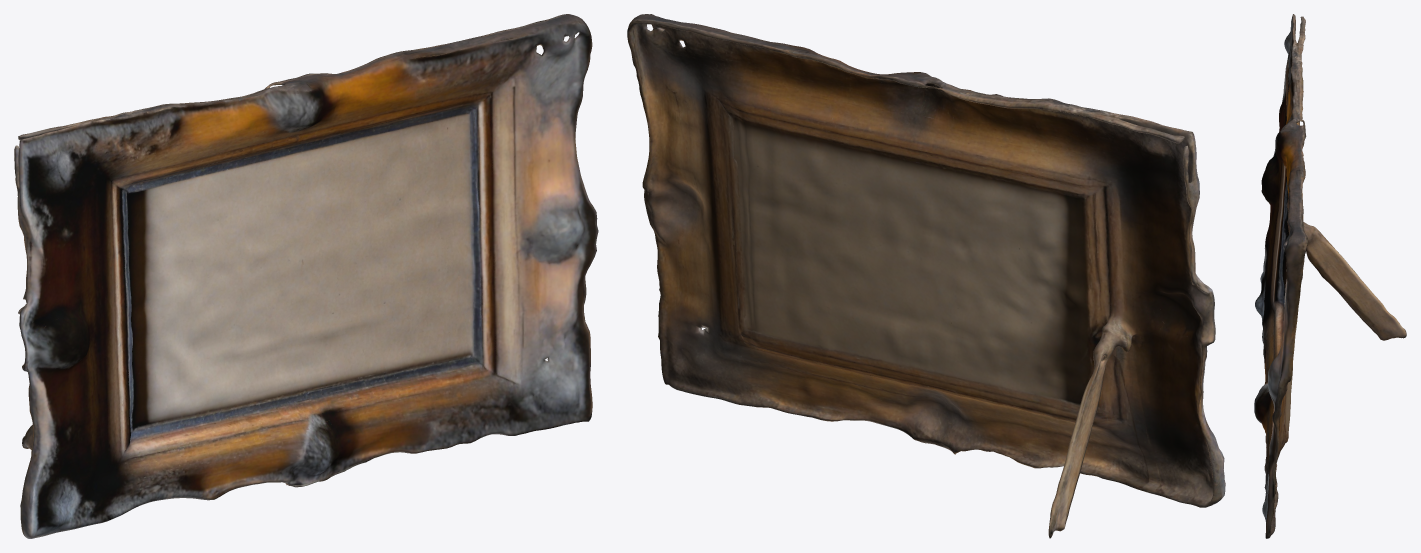
Rendered from photo.glb.
3 views of the same model, side by side, from view 1: azimuth 30°, elevation 25°; view 2: azimuth 150°, elevation 25°; view 3: azimuth 270°, elevation 25° (orthographic). The views are drawn at different scales.
Bounding box in the file's own units: 1.98 × 1.31 × 0.574.
Materials: 1 (1 with a texture image).
